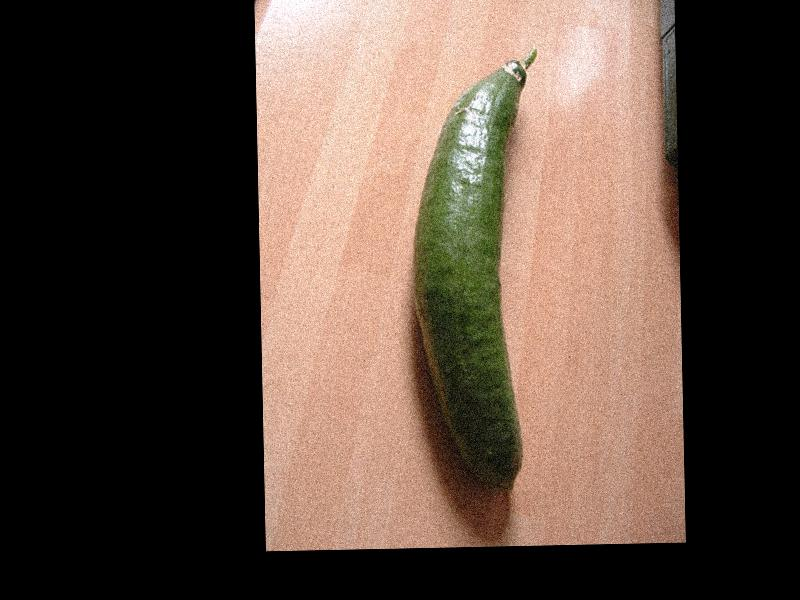Cucumber: (406, 47, 545, 495)
